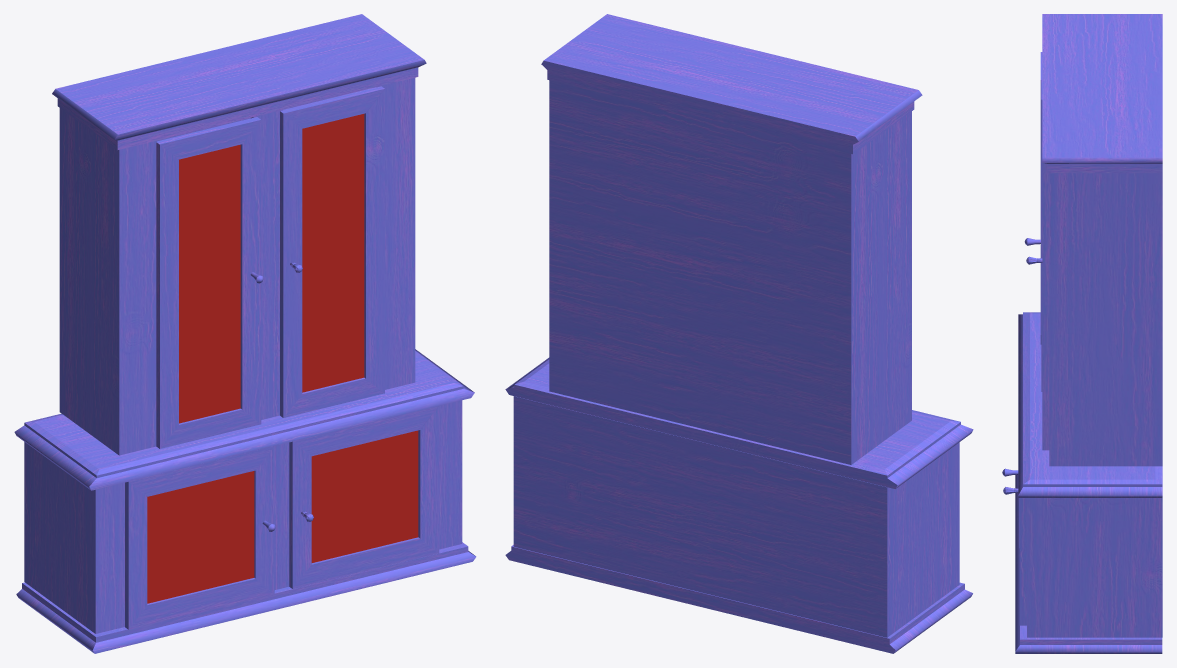
File: china_cupboard.obj
The picture shows the model from 3 angles, left to right: view 1: azimuth 30°, elevation 25°; view 2: azimuth 150°, elevation 25°; view 3: azimuth 270°, elevation 25°; orthographic projection. The views are drawn at different scales.
Parts seen in each view (by area): view 1: CabinetBase300; view 2: CabinetBase300; view 3: CabinetBase300.
Part boxes in pixels (bbox=[...]): CabinetBase300: bbox=[14, 14, 476, 653]; CabinetBase300: bbox=[505, 14, 973, 653]; CabinetBase300: bbox=[1002, 14, 1162, 653].
Size of the model in its own units: 57.74 by 71.5 by 21.65.
